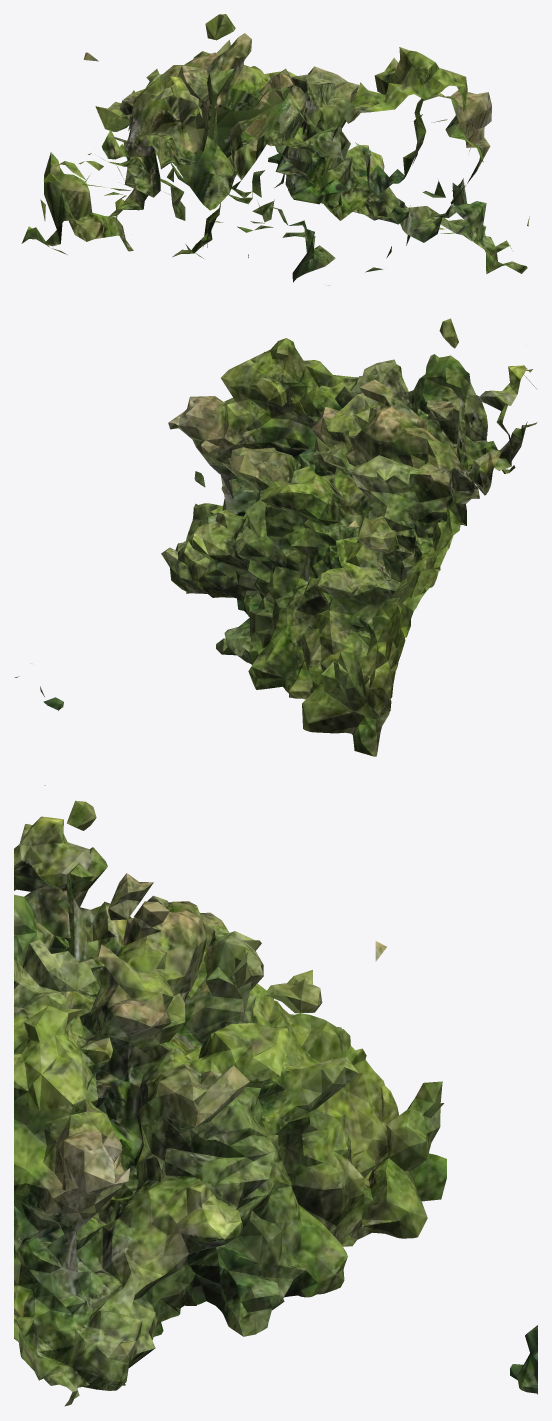
3 views of the same model, one above another, from view 1: azimuth 30°, elevation 25°; view 2: azimuth 150°, elevation 25°; view 3: azimuth 270°, elevation 25° (orthographic). The views are drawn at different scales.
Size of the model in its own units: 26.11 by 23.41 by 26.11.
5 materials, 5 textured.
